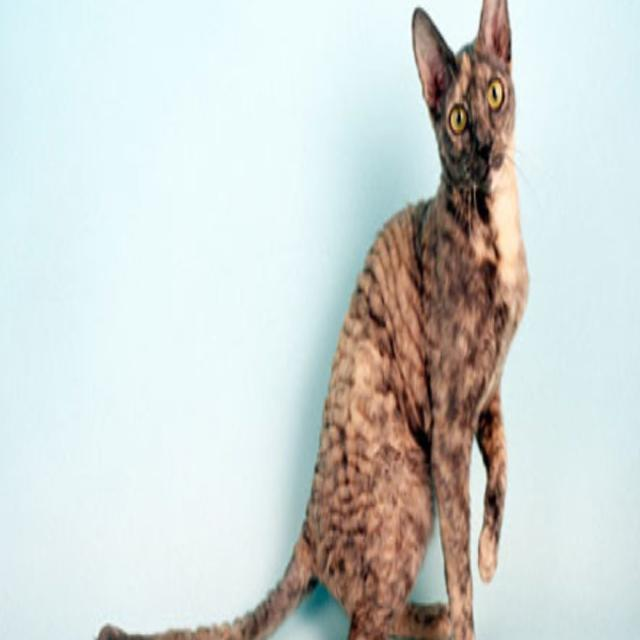Cornish Rex: (92, 0, 536, 640)
